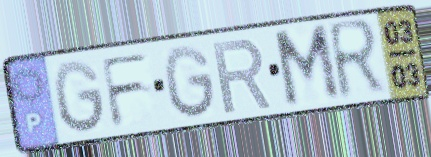F: (97, 49, 153, 131)
G: (51, 57, 109, 137), (161, 42, 219, 122)
M: (270, 20, 344, 111)
R: (324, 15, 390, 105), (209, 36, 274, 117)
